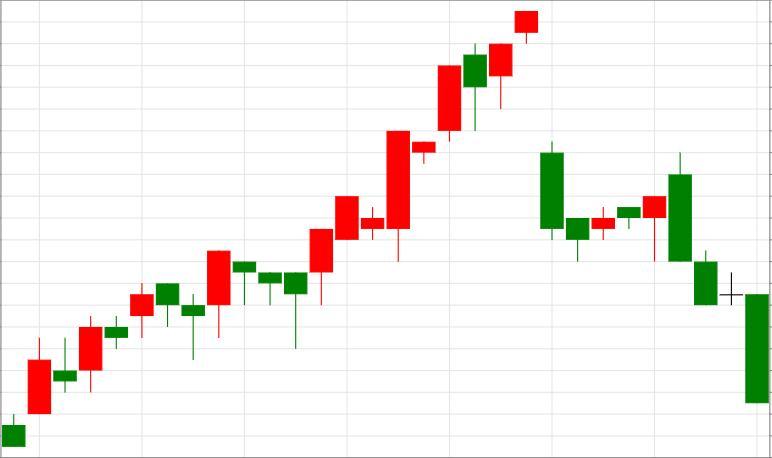hanging_man_fall: (309, 43, 487, 305)
